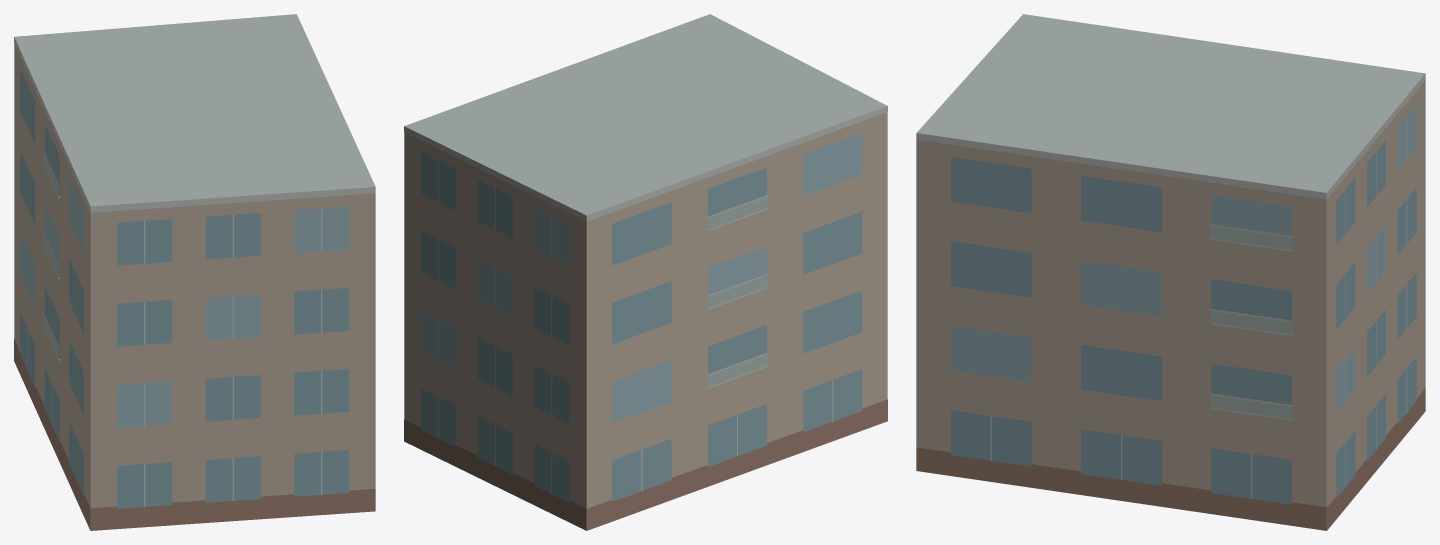
File: survey-upis-32890138.glb
3 renders of one model, left to right at view 1: azimuth 30°, elevation 25°; view 2: azimuth 150°, elevation 25°; view 3: azimuth 270°, elevation 25°, orthographic. The views are drawn at different scales.
Parts seen in each view (by area): view 1: survey-upis-32890138.tmp; view 2: survey-upis-32890138.tmp; view 3: survey-upis-32890138.tmp.
Boxes of the visible parts, <box> form: survey-upis-32890138.tmp: <box>14,14,375,530</box>; survey-upis-32890138.tmp: <box>404,14,887,530</box>; survey-upis-32890138.tmp: <box>916,14,1425,530</box>.
Bounding box in the file's own units: 14.2 × 12.5 × 17.08.
